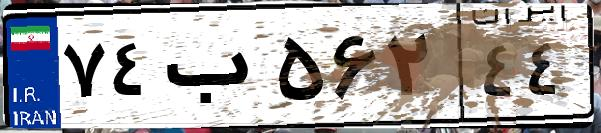2: (385, 28, 445, 110)
4: (475, 38, 525, 113), (525, 38, 570, 115), (110, 28, 158, 98)
5: (270, 28, 330, 110)
6: (330, 28, 385, 110)
7: (57, 26, 110, 100)
ب: (158, 20, 270, 120)
